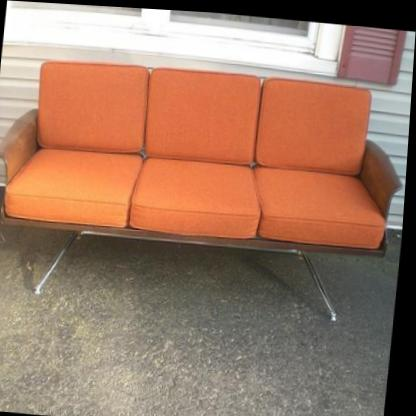Sofa: (0, 46, 414, 324)
